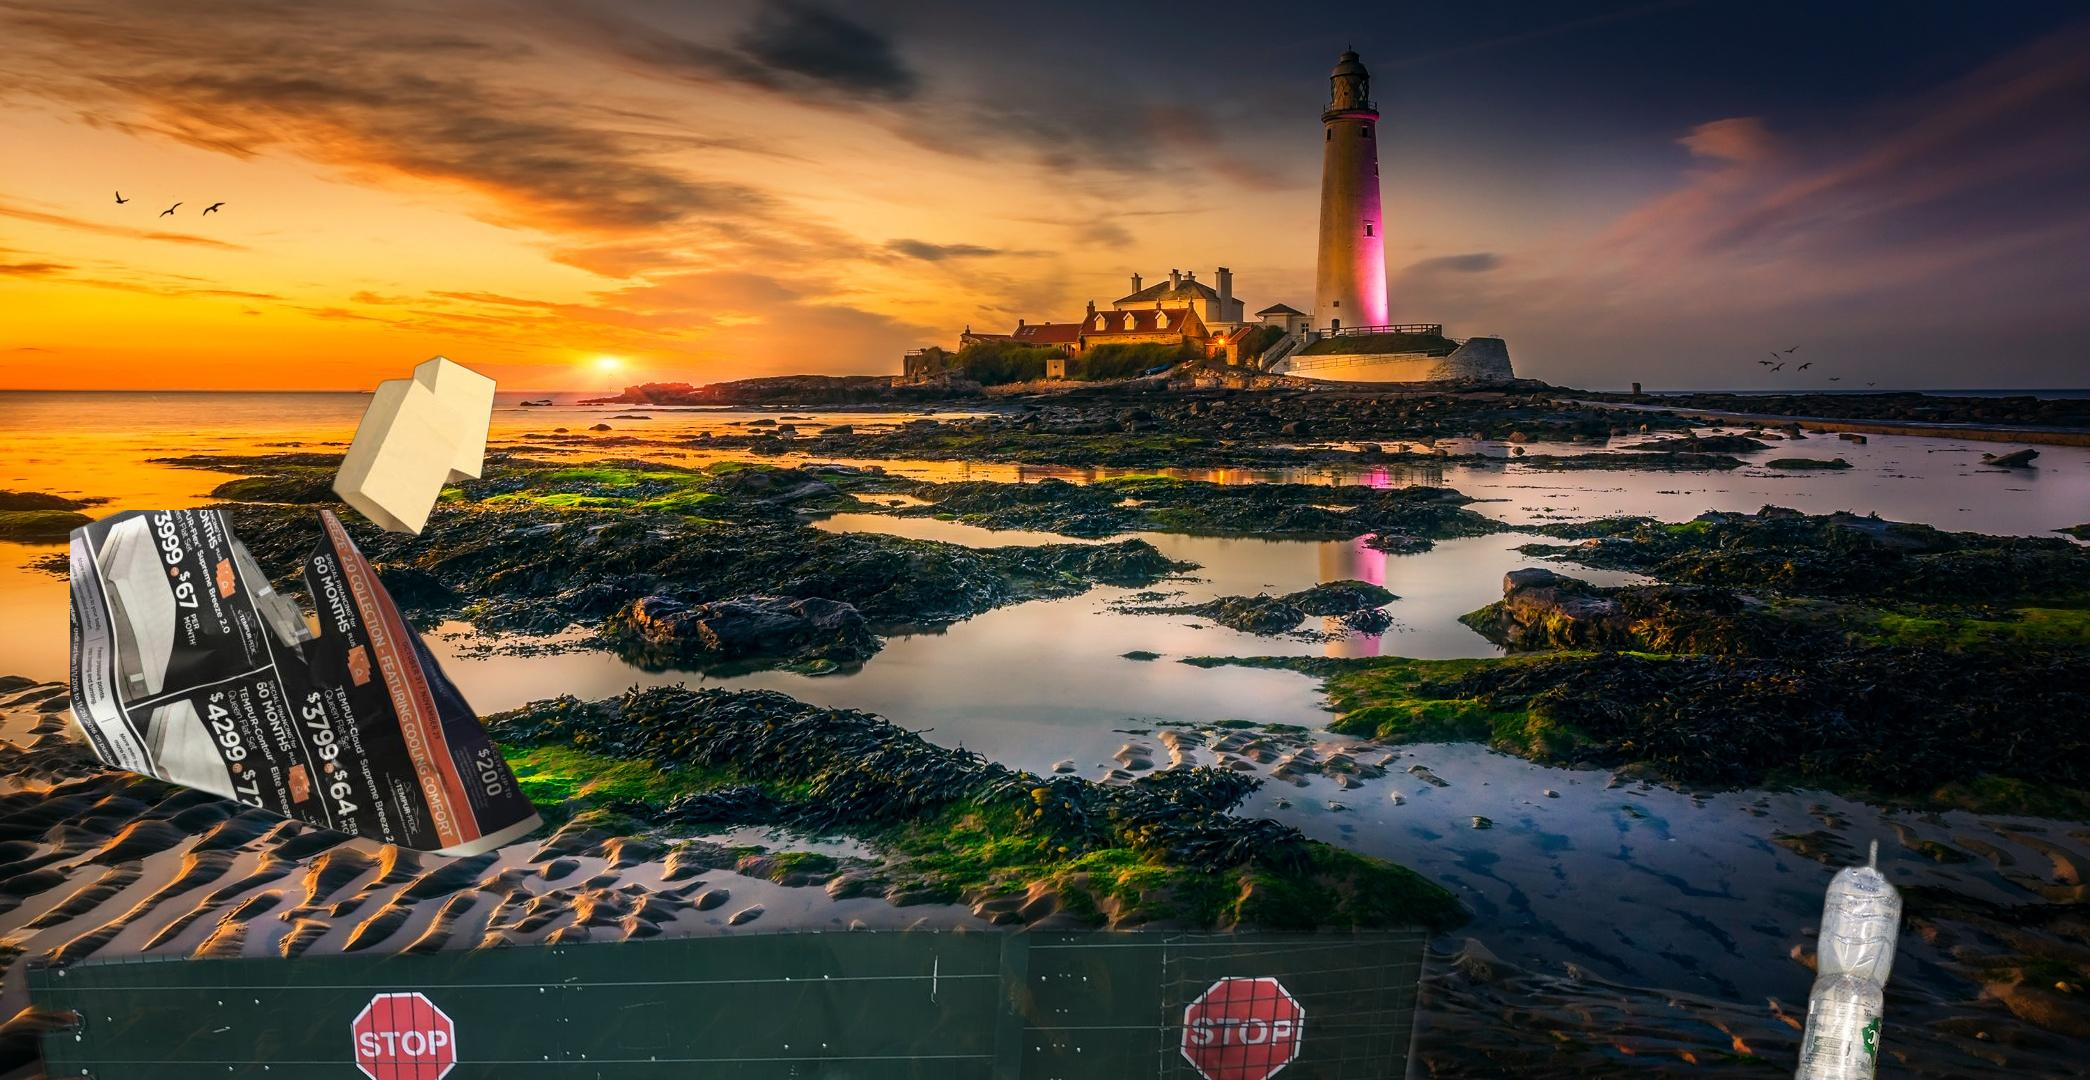paper: (70, 510, 549, 861)
paper-bag: (304, 353, 500, 555)
plastic-bottles: (1788, 825, 1912, 1080)
trashbox-cardboard: (6, 696, 1548, 1080)
